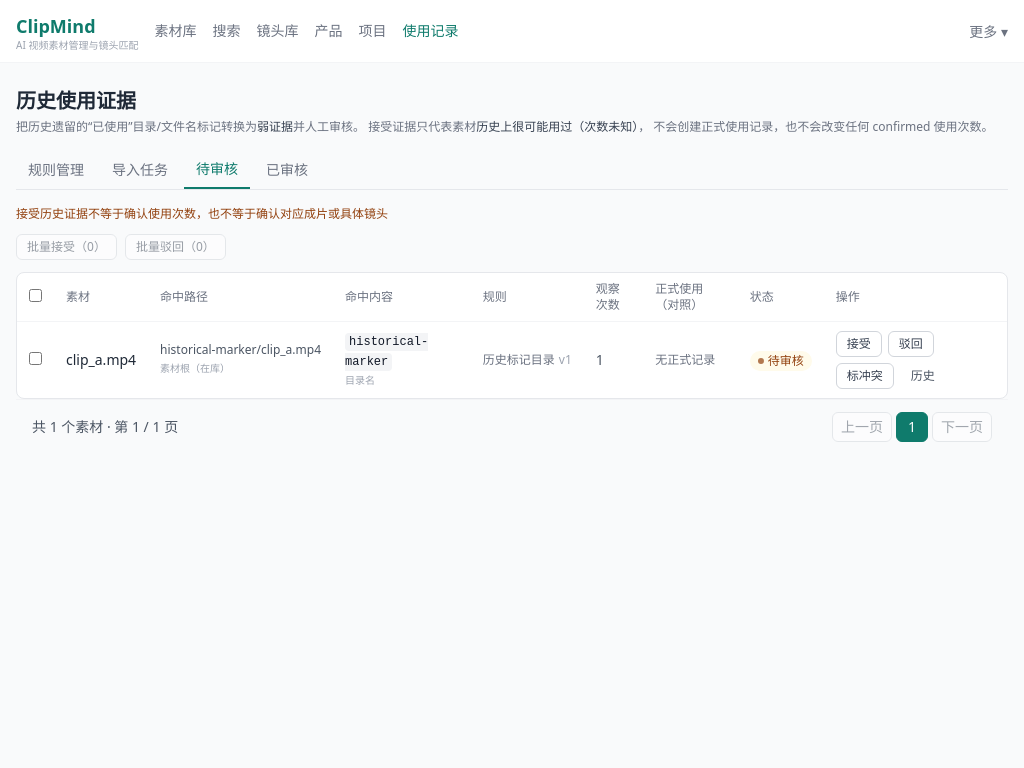
UsageEvidenceView 规则管理 › 新建规则表单只提供白名单下拉
This screenshot has width=1024, height=768.
Click the tab with test id "tab-rules" at (56,170), box 16,151 -> 96,189
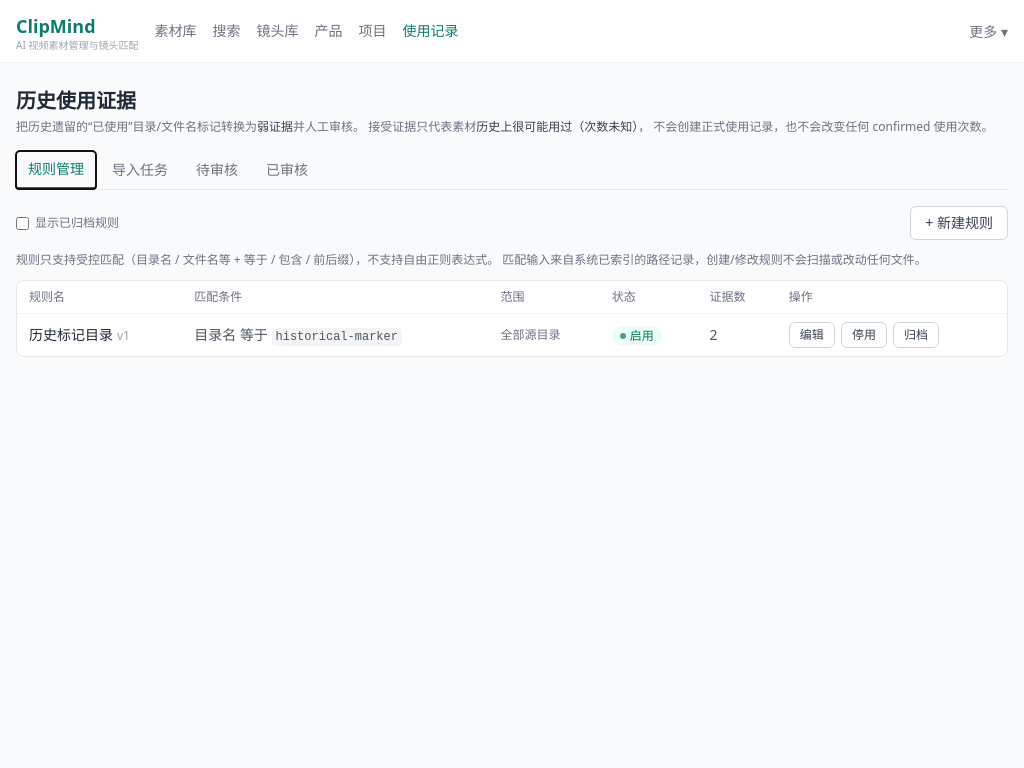
Click the button with test id "create-rule-button" at (959,223), box 910,206 -> 1008,240
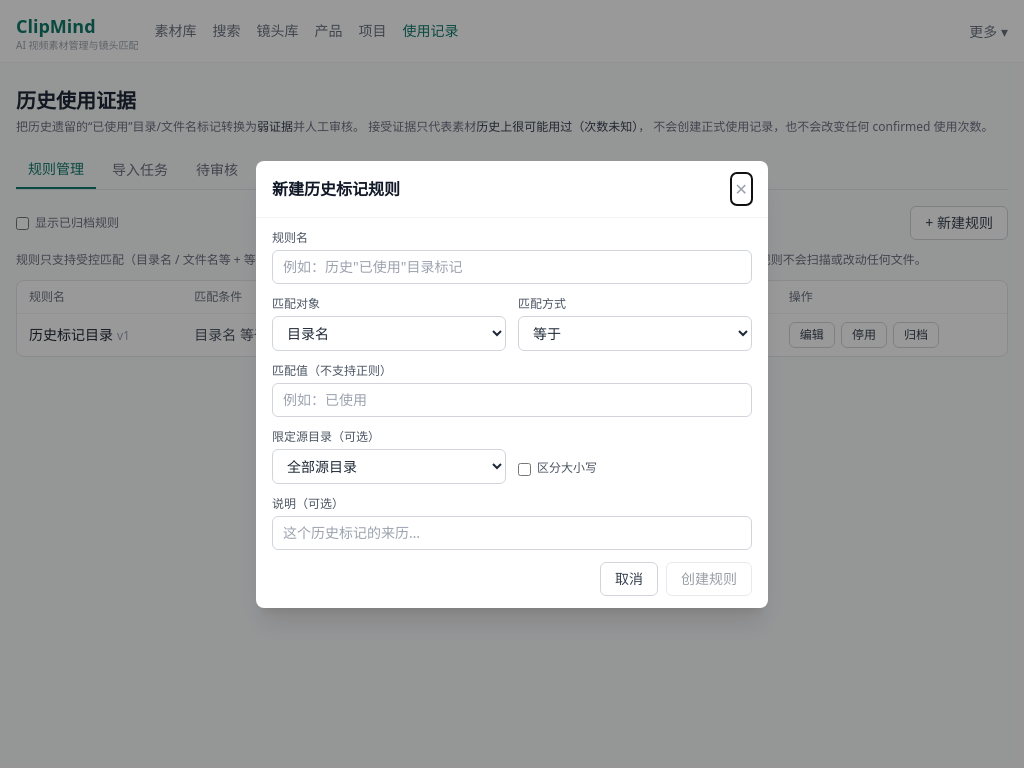
Expected: the button with test id "rule-form-submit" is disabled, 666,562 -> 752,596
